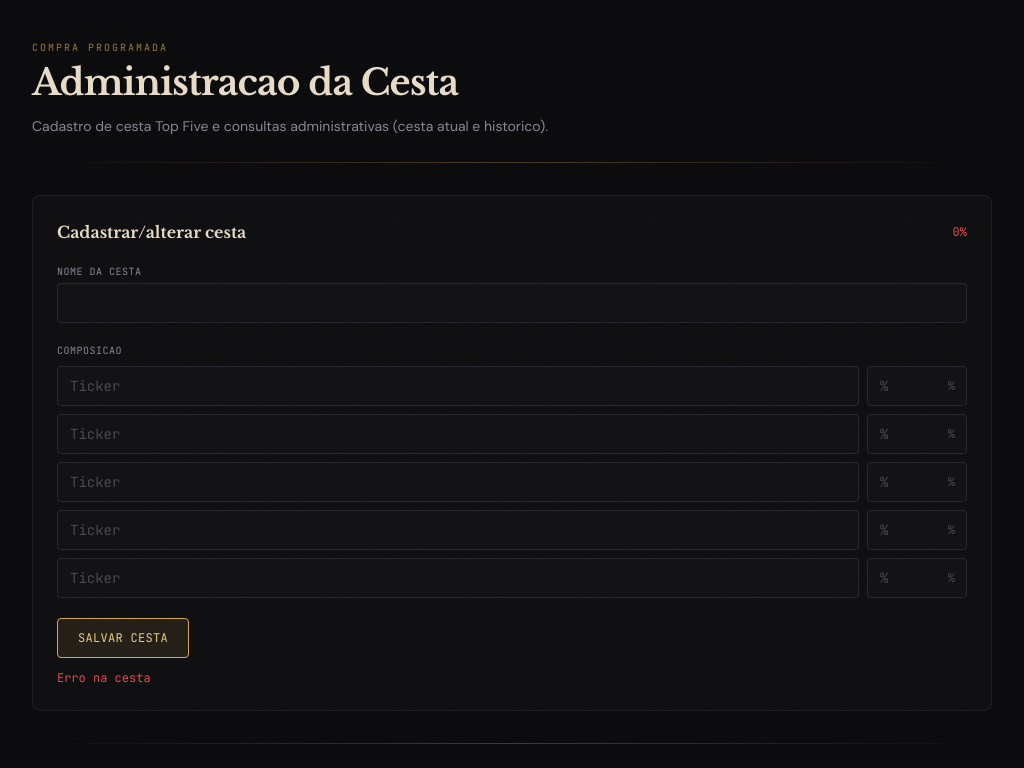
AdminCestaPage › shows validation and api error states
Click the button "Salvar cesta" at [123, 638], box left=57, top=618, right=189, bottom=658
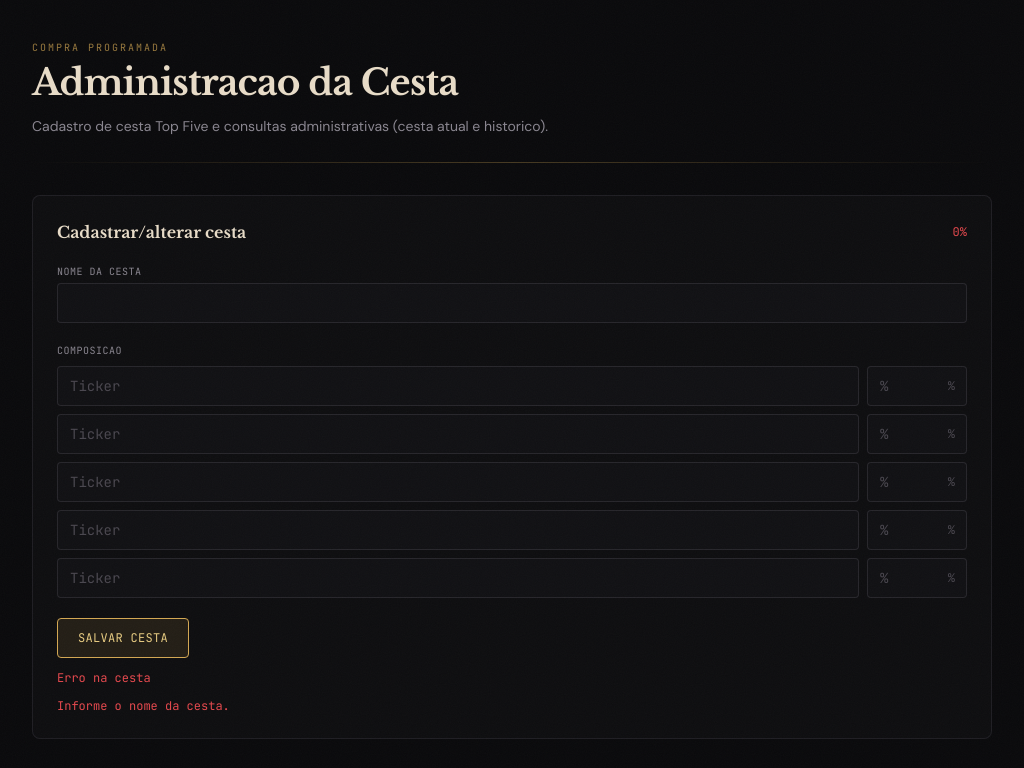
Expected: the text "Erro na cesta" is shown, left=57, top=670, right=151, bottom=686
Expected: the text "Informe o nome da cesta." is shown, left=57, top=698, right=230, bottom=714
